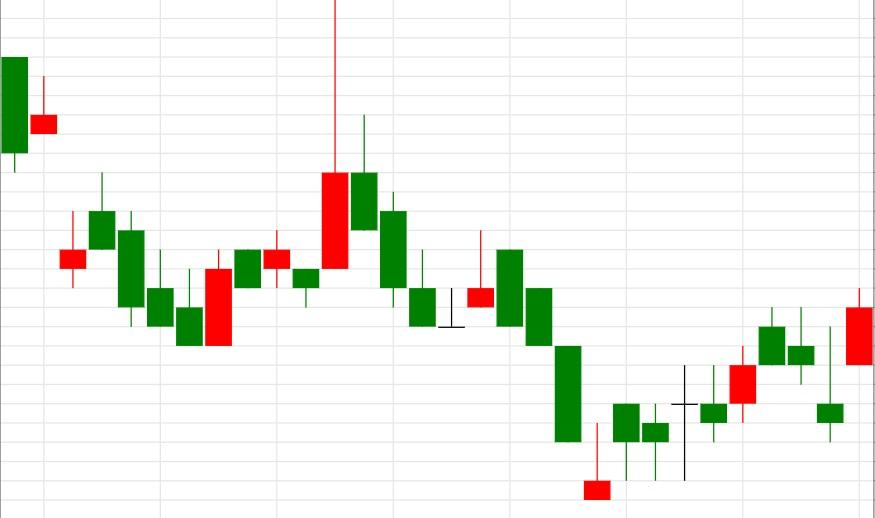bullish_engulfing_rise: (88, 172, 233, 347)
inverse_hammer_rise: (466, 229, 612, 502)
shooting_star_fall: (407, 230, 495, 329)
